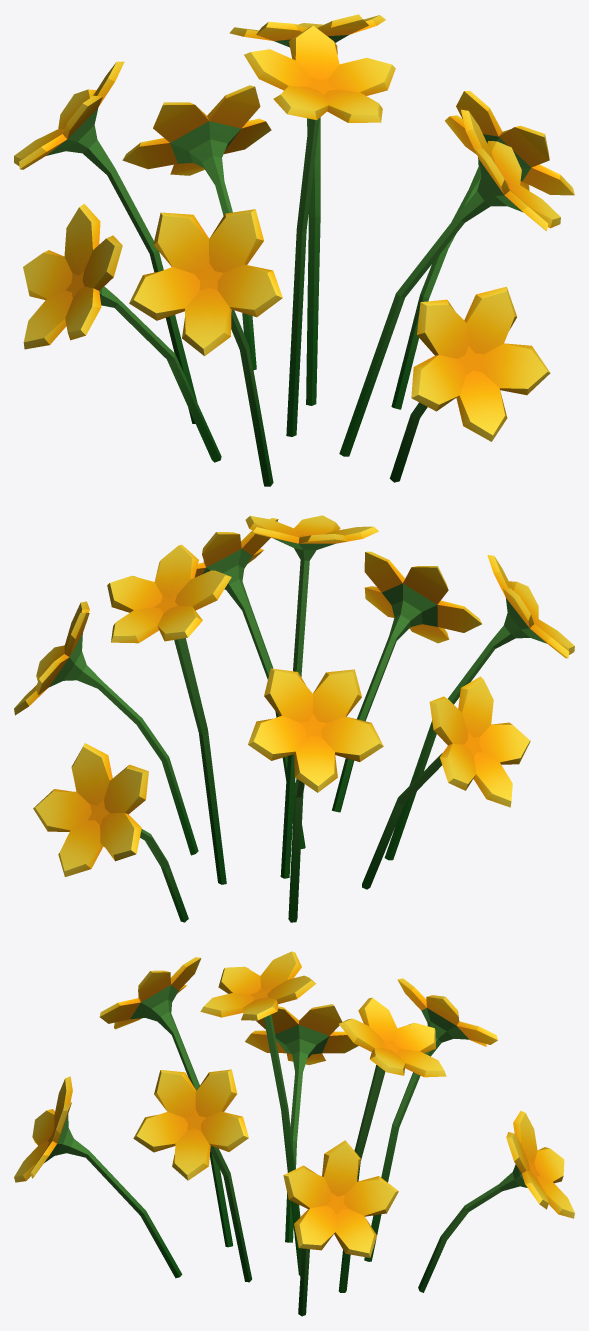
Rendered from Flower_yellow_Group.fbx.
3 renders of one model, top to bottom at view 1: azimuth 30°, elevation 25°; view 2: azimuth 150°, elevation 25°; view 3: azimuth 270°, elevation 25°, orthographic. The views are drawn at different scales.
Parts seen in each view (by area): view 1: Flower_yellow_Group; view 2: Flower_yellow_Group; view 3: Flower_yellow_Group.
Boxes of the visible parts, x1,y1,x2,y2 form: Flower_yellow_Group: (14,14,574,486); Flower_yellow_Group: (14,515,574,922); Flower_yellow_Group: (14,951,574,1316).
Bounding box in the file's own units: 64.76 × 46.18 × 75.43.
